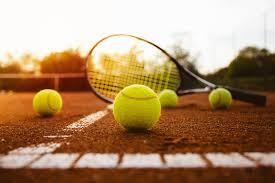tennis ball: (114, 85, 161, 130), (33, 89, 62, 115), (209, 88, 233, 108), (162, 89, 176, 106)
tennis racket: (86, 35, 266, 106)
